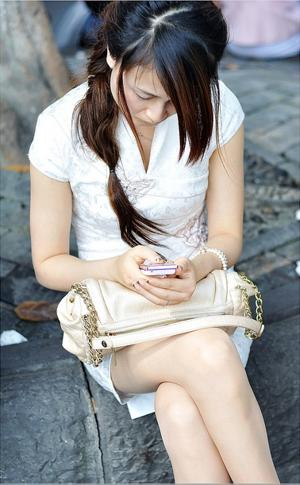person: (29, 2, 282, 485)
